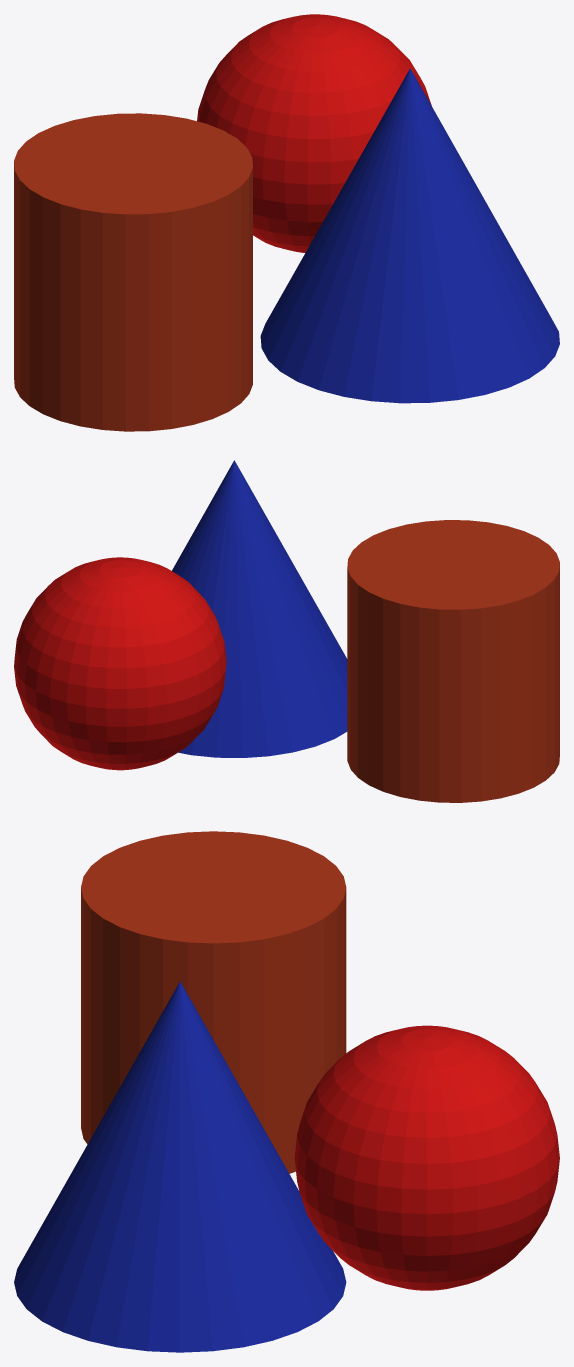
The model's file is ruben2.obj.
3 renders of one model, top to bottom at view 1: azimuth 30°, elevation 25°; view 2: azimuth 150°, elevation 25°; view 3: azimuth 270°, elevation 25°, orthographic. The views are drawn at different scales.
Parts seen in each view (by area): view 1: Cylinder, Cone.001, Sphere; view 2: Cylinder, Sphere, Cone.001; view 3: Cone.001, Cylinder, Sphere.
Boxes of the visible parts, x1,y1,x2,y2 form: Cylinder: [14, 113, 252, 431]; Cone.001: [260, 68, 559, 403]; Sphere: [197, 14, 431, 252]; Cylinder: [347, 520, 559, 802]; Sphere: [14, 557, 226, 770]; Cone.001: [172, 460, 347, 757]; Cone.001: [14, 981, 346, 1352]; Cylinder: [81, 831, 346, 1173]; Sphere: [294, 1025, 559, 1290].
Size of what is drawn, in the model's own units: 4.77 by 2.5 by 4.11.
